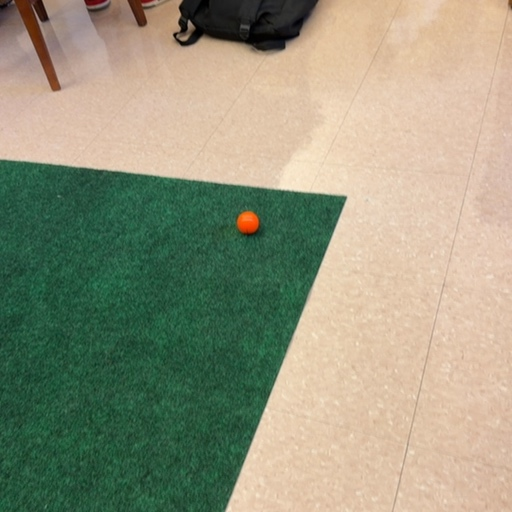Ball: (237, 211, 259, 235)
